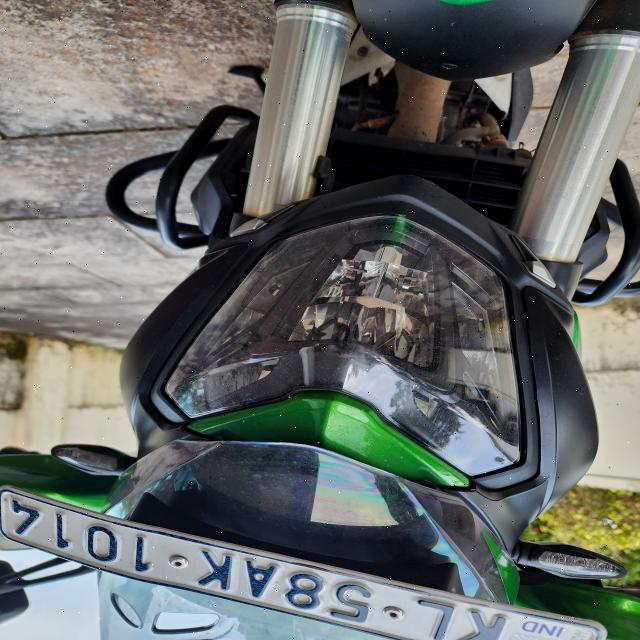headlight: (157, 208, 533, 482)
